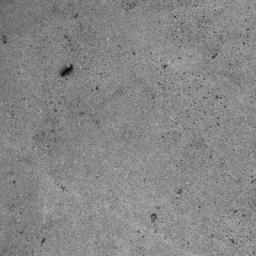FOD: (57, 60, 77, 79)
